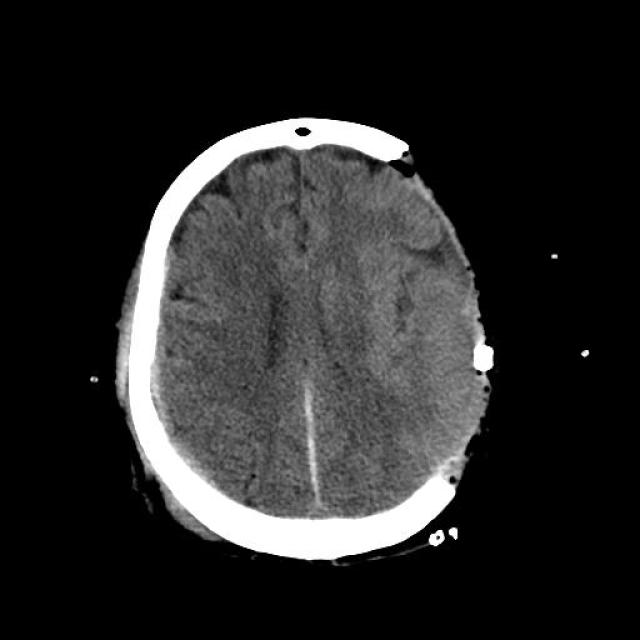Subdural: (278, 376, 332, 532)
